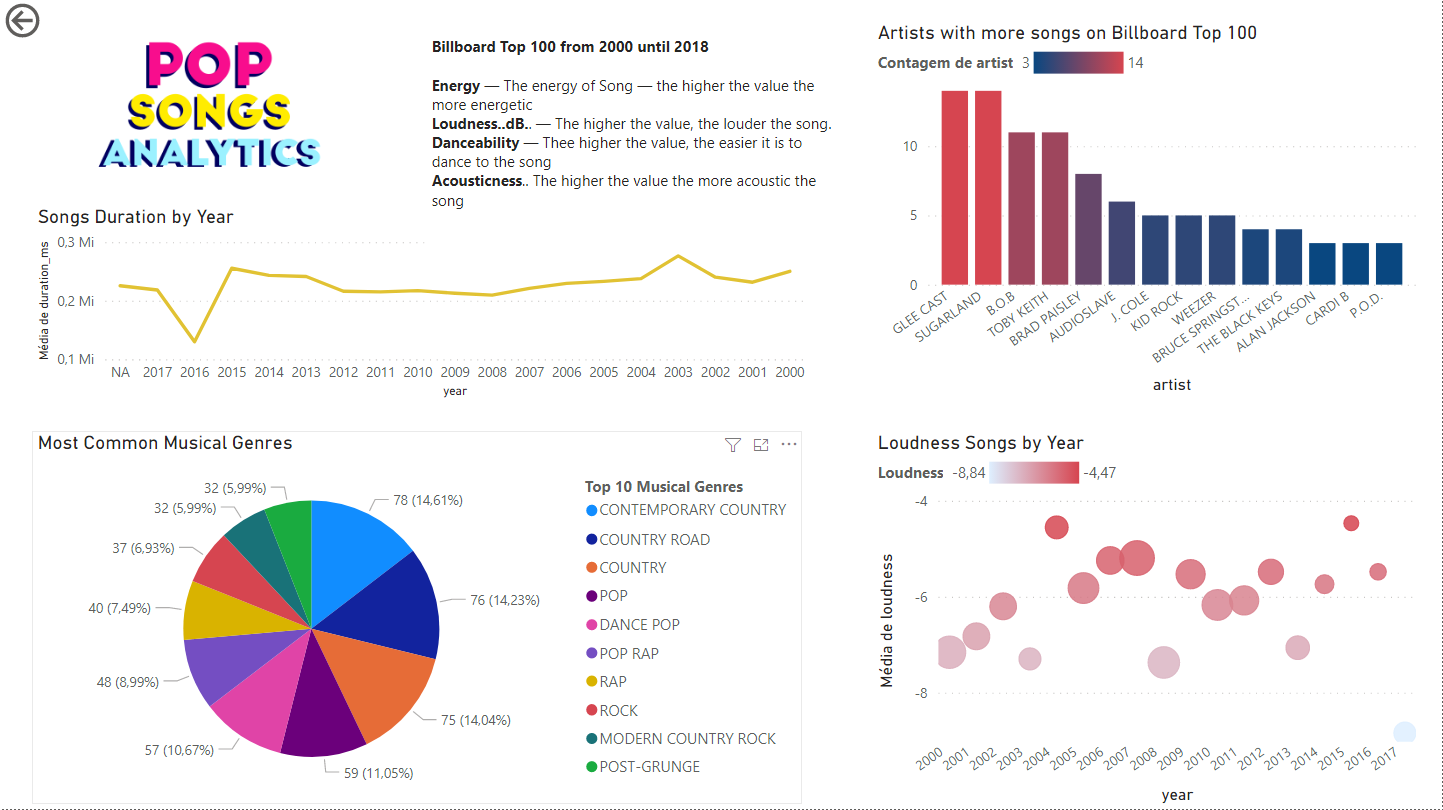

This screenshot's page, from the dashboard's own definition file:
{"tool":"powerbi","page":{"name":"Página 1","canvas":[1280,720],"ordinal":0},"visuals":[{"type":"pieChart","title":"Most Common Musical Genres","fields":{"Y":["SongsGenres.Genre.1.name"],"Series":["SongsGenres.Genre.1.name"]},"box":[28.2,384.2,683.8,331.7],"z":1000},{"type":"scatterChart","title":"Loudness Songs by Year","fields":{"Y":["PopSongs.loudness"],"X":["PopSongs.year"],"Size":["PopSongs.title"]},"box":[774.2,384.2,488.3,335.6],"z":2000},{"type":"actionButton","box":[0,0,100,40],"z":3000},{"type":"lineChart","title":"Songs Duration by Year","fields":{"Category":["PopSongs.year"],"Y":["PopSongs.duration_ms"]},"box":[28.2,183.8,692.5,176],"z":4000},{"type":"clusteredColumnChart","title":"Artists with more songs on Billboard Top 100","fields":{"Y":["PopSongs.artist"],"Category":["PopSongs.artist"]},"box":[774.2,20.4,488.3,336.5],"z":5000},{"type":"textbox","box":[378.4,29.2,375.4,190.6],"z":5002},{"type":"image","box":[8.9,20.4,349.8,150],"z":5003}]}

Visuals, with their boxes in screenshot pixels (x1, y1, x2, y2), scaled from the page's 1280x720 canvas onto the 1443x810 screenshot:
"Most Common Musical Genres" pieChart: <region>32, 432, 803, 805</region>
"Loudness Songs by Year" scatterChart: <region>873, 432, 1423, 809</region>
actionButton: <region>0, 0, 113, 45</region>
"Songs Duration by Year" lineChart: <region>32, 207, 812, 405</region>
"Artists with more songs on Billboard Top 100" clusteredColumnChart: <region>873, 23, 1423, 402</region>
textbox: <region>427, 33, 850, 247</region>
image: <region>10, 23, 404, 192</region>
